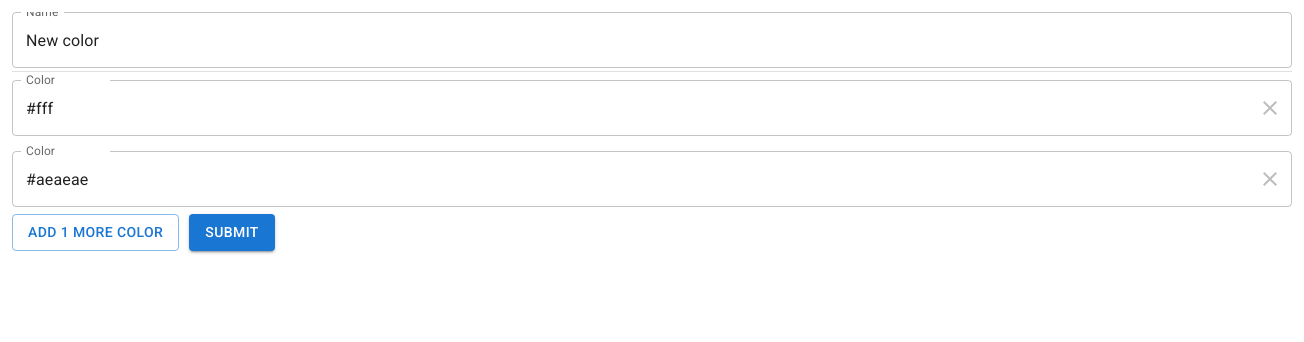
Test case: EditForm component › should change delete button state
The width and height of the screenshot is (1304, 342).
Expected: the 1st button with test id "EditDeleteColor" is disabled, [1250,88,1290,128]
Click the button with test id "EditAddColor": [96, 232] box [12,214,179,250]
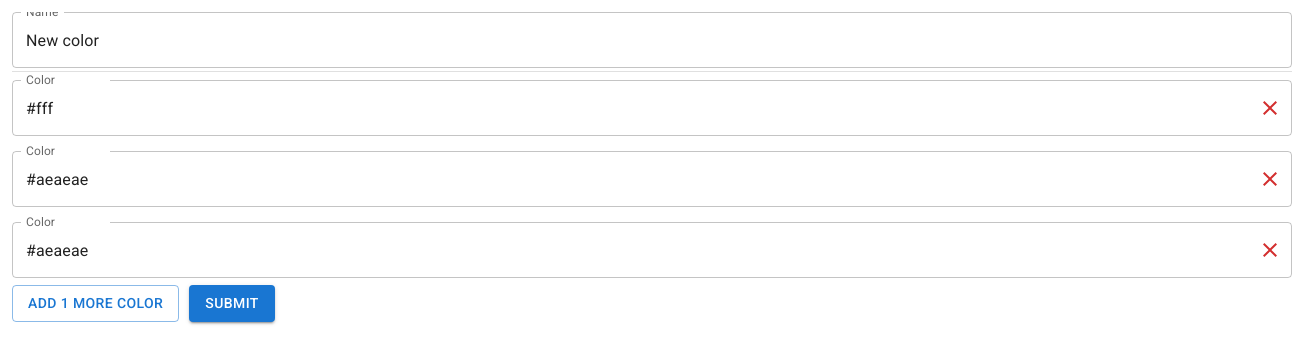
Expected: the 1st button with test id "EditDeleteColor" is enabled
Click the 1st button with test id "EditDeleteColor": [1270, 108] box [1250,88,1290,128]
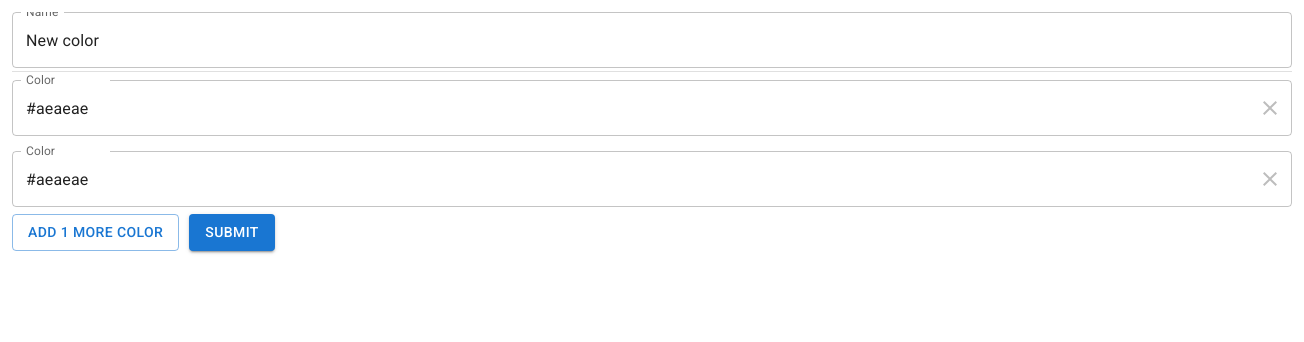
Expected: the 2nd button with test id "EditDeleteColor" is disabled, [1250,159,1290,199]
